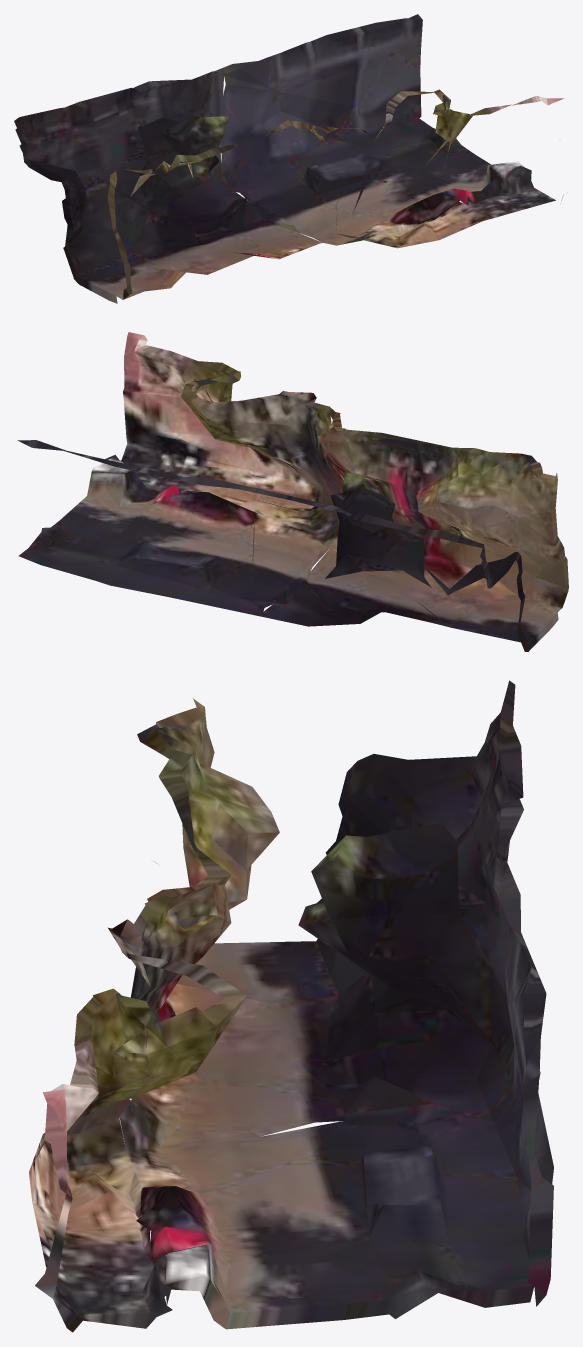
3 views of the same model, one above another, from view 1: azimuth 30°, elevation 25°; view 2: azimuth 150°, elevation 25°; view 3: azimuth 270°, elevation 25° (orthographic). The views are drawn at different scales.
Parts seen in each view (by area): view 1: Mesh_0; view 2: Mesh_0; view 3: Mesh_0.
Boxes of the visible parts, left/top/right/bottom form: Mesh_0: left=14, top=14, right=564, bottom=303; Mesh_0: left=17, top=332, right=568, bottom=651; Mesh_0: left=29, top=680, right=553, bottom=1332.
Size of the model in its own units: 31.09 by 9.32 by 16.38.
1 material, 1 textured.
